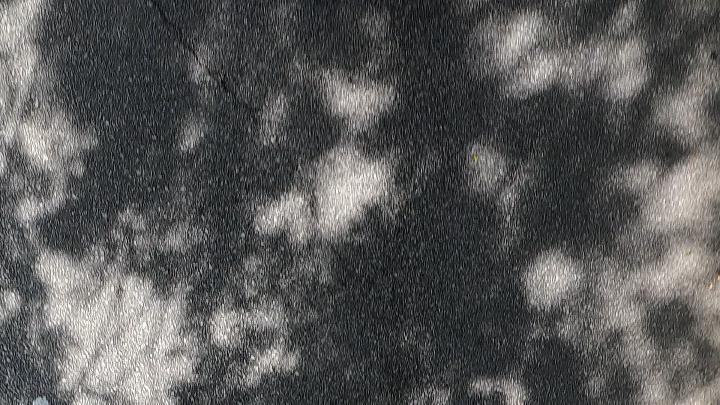Crack: (161, 2, 369, 270), (166, 4, 362, 267)
